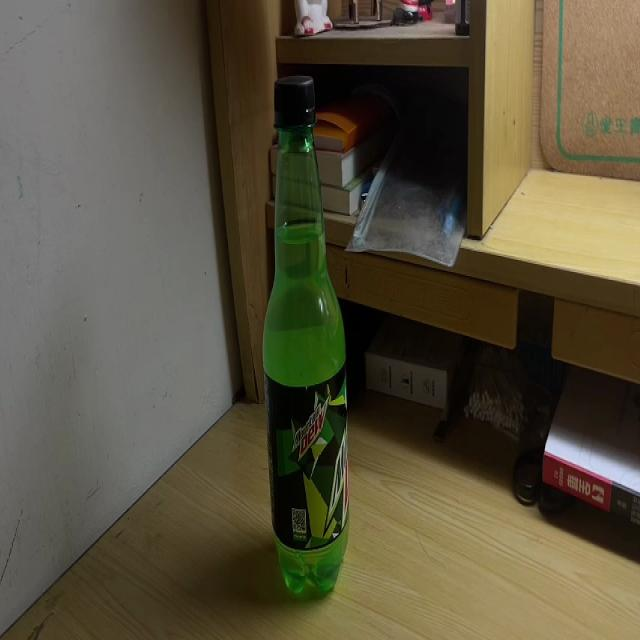Mountain-Dew: (263, 74, 348, 599)
